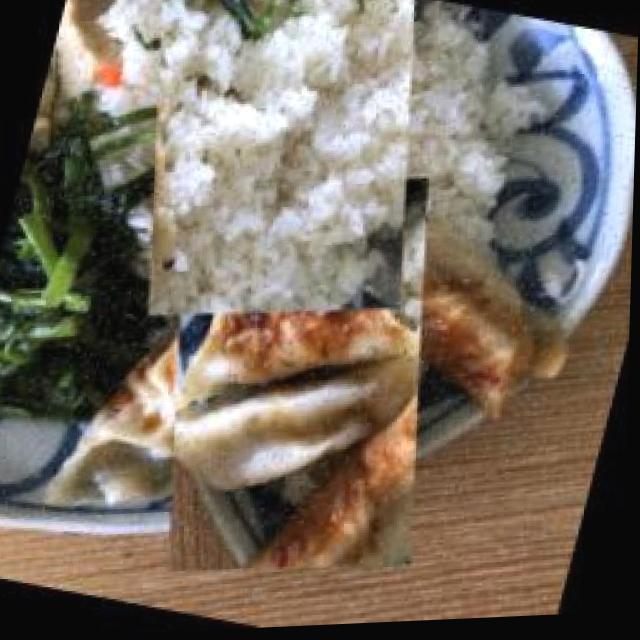fried_dumplings: (71, 143, 529, 607)
rice: (55, 0, 506, 353)
water_spinach: (0, 127, 175, 426)
